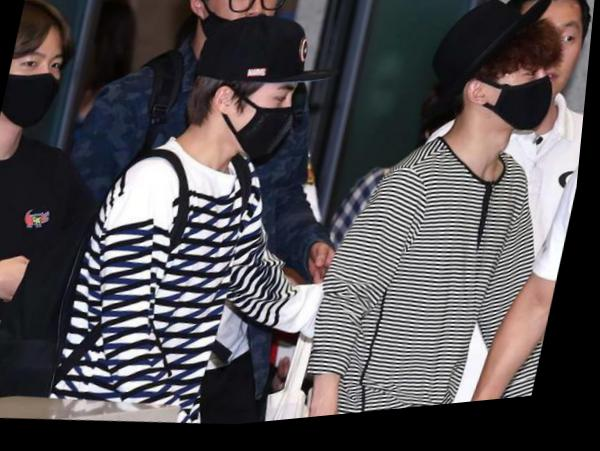OK: (213, 81, 305, 173), (471, 62, 563, 153), (1, 36, 76, 133)
WRONG: (202, 1, 289, 59)
